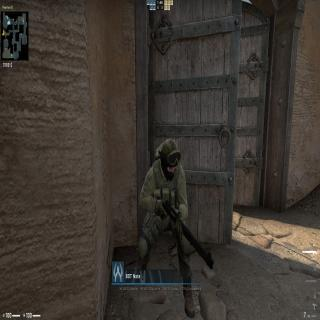CT-Head: (159, 141, 180, 183)
